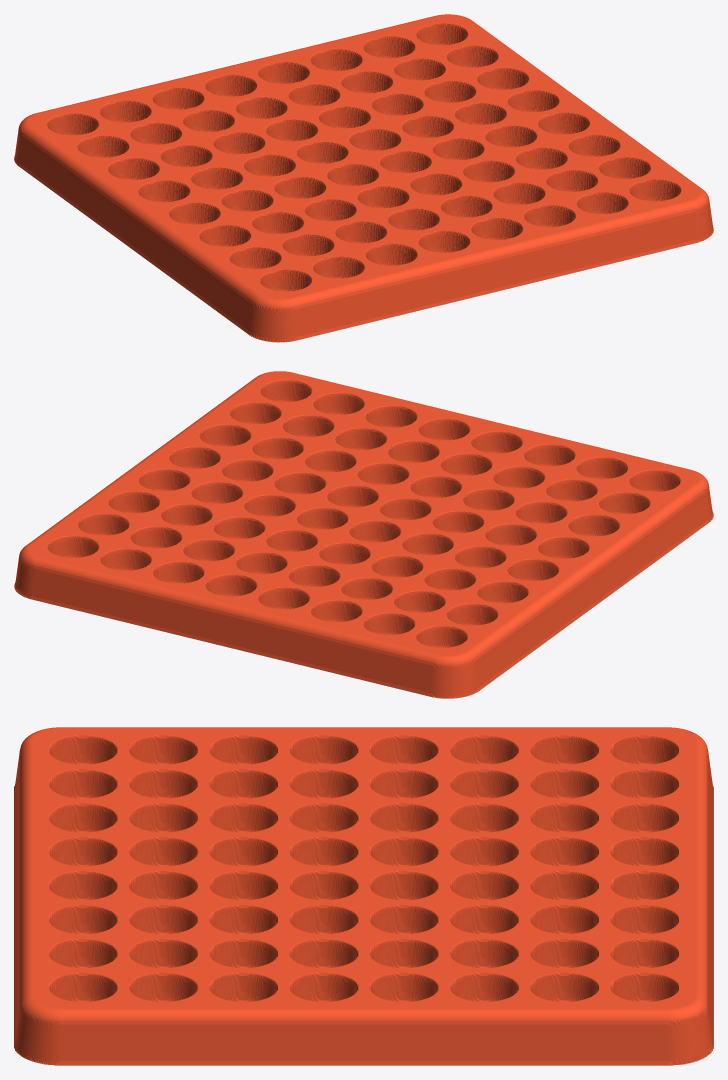
File: mold.glb
The picture shows the model from 3 angles, top to bottom: view 1: azimuth 30°, elevation 25°; view 2: azimuth 150°, elevation 25°; view 3: azimuth 270°, elevation 25°; orthographic projection. The views are drawn at different scales.
Visible parts, largest first — view 1: geometry_0; view 2: geometry_0; view 3: geometry_0.
Boxes of the visible parts, x1,y1,x2,y2 form: geometry_0: (14,14,713,342); geometry_0: (14,371,713,698); geometry_0: (14,727,713,1065).
Bounding box in the file's own units: 0.1355 × 0.0105 × 0.1355.
